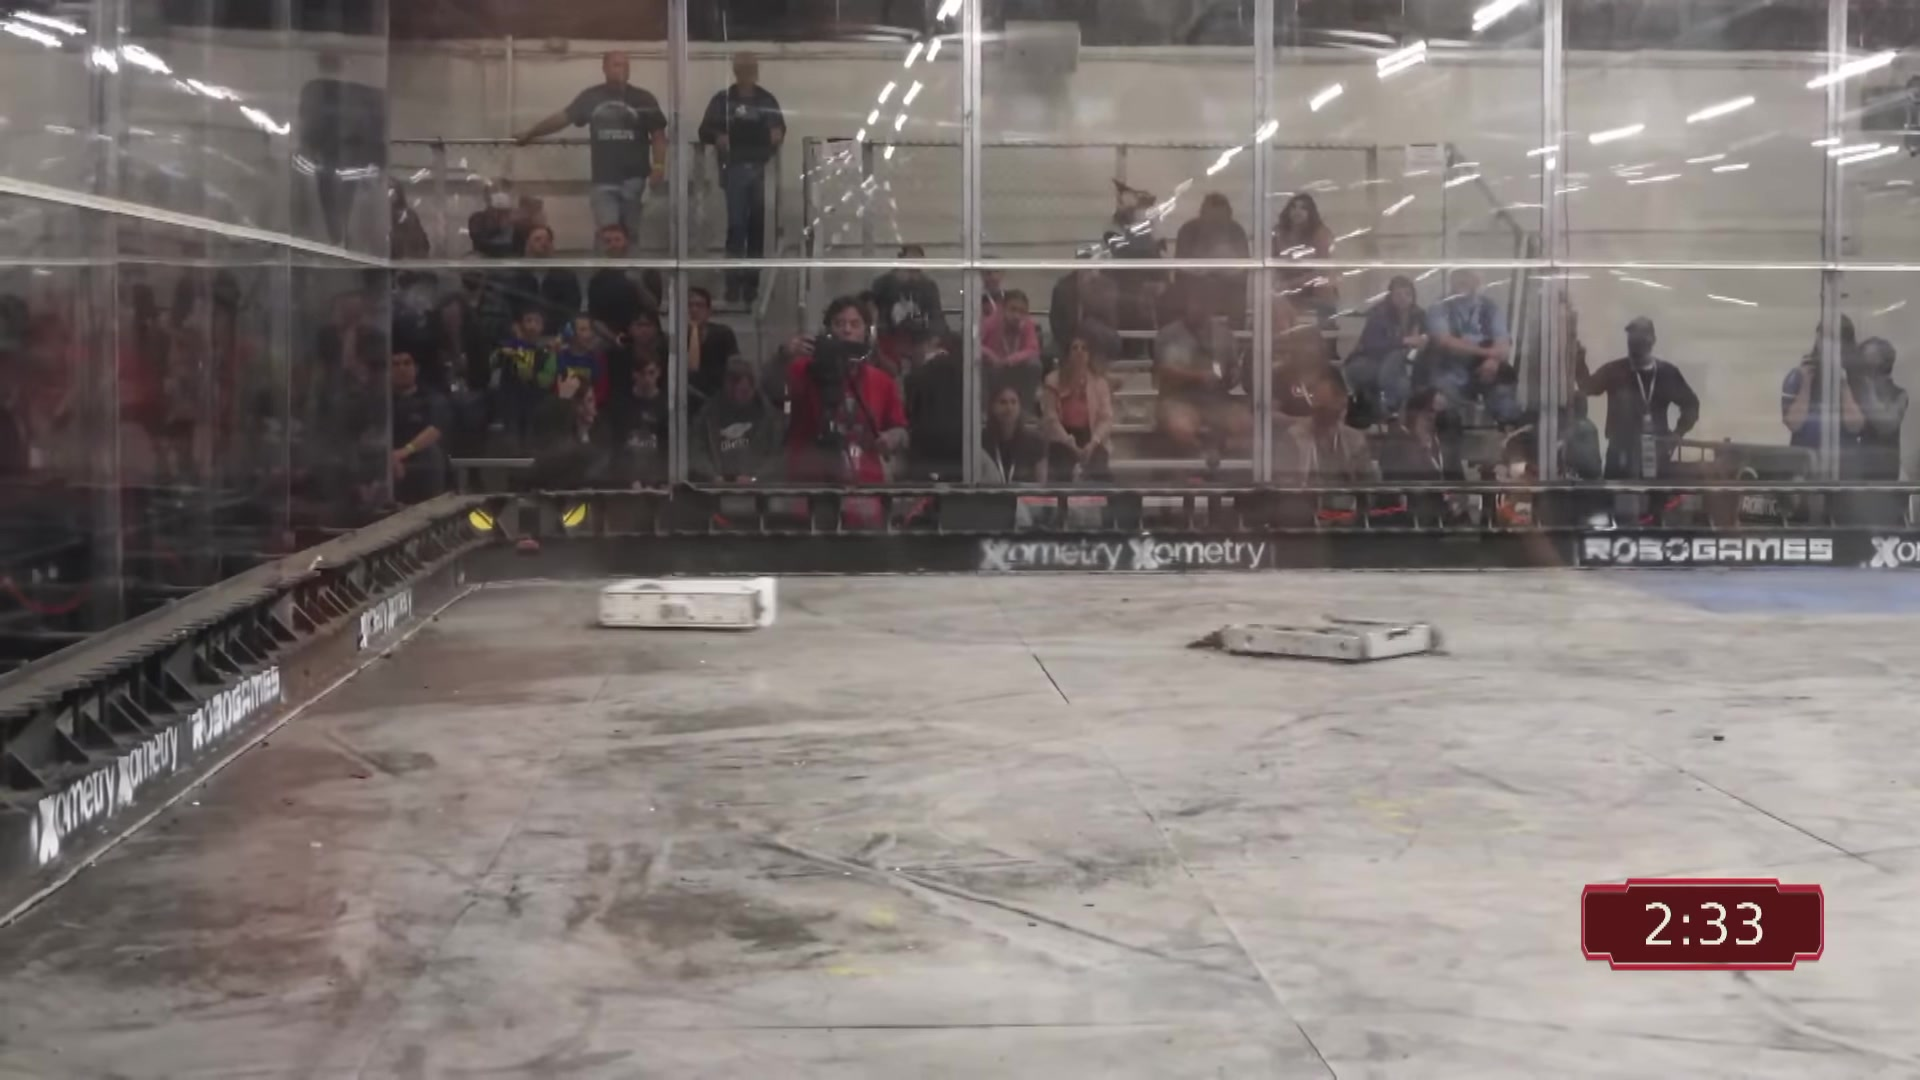combatbot: (1185, 621, 1445, 658), (596, 575, 777, 628)
